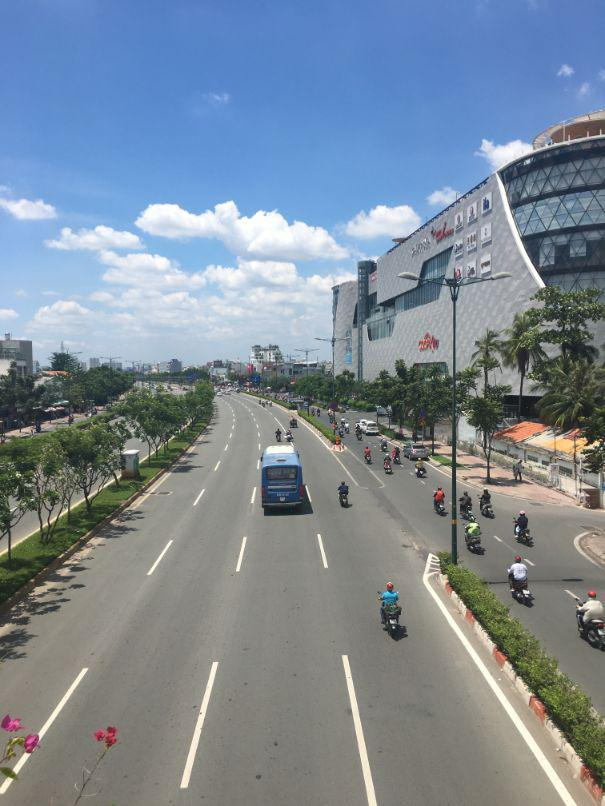bus: (260, 445, 306, 516)
car: (408, 443, 429, 460)
motorbike: (379, 597, 407, 639), (514, 512, 532, 542), (480, 489, 496, 520), (467, 537, 487, 557), (339, 484, 352, 510), (435, 488, 447, 516)
